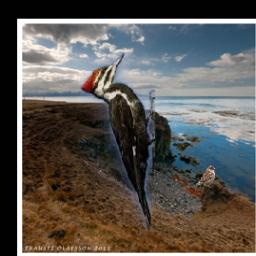Sparrow: (194, 165, 215, 188)
Woodpecker: (81, 53, 156, 239)
